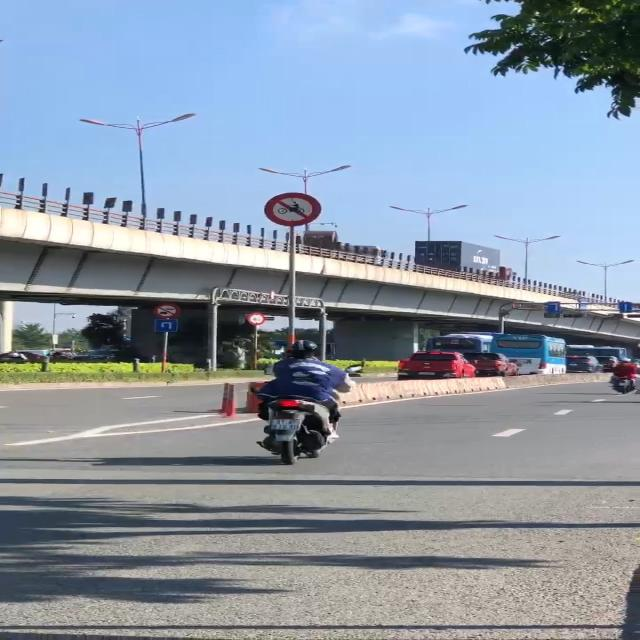Bien bao cam xe may: (256, 185, 332, 229)
